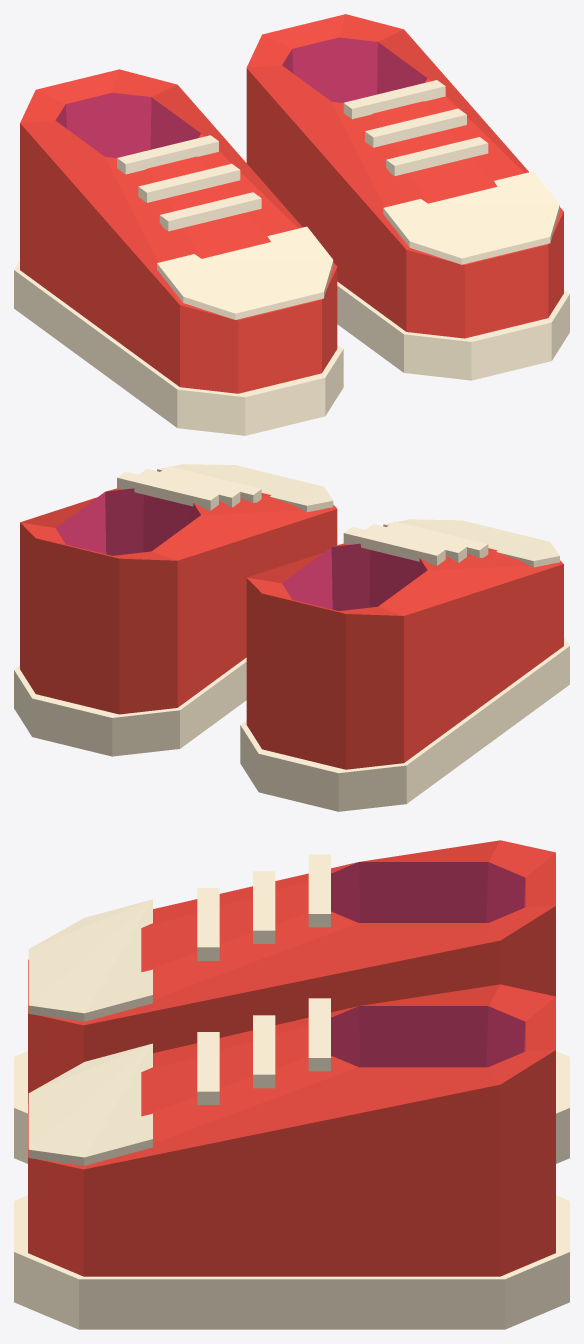
The model's file is 19-shoes.glb.
The picture shows the model from 3 angles, top to bottom: view 1: azimuth 30°, elevation 25°; view 2: azimuth 150°, elevation 25°; view 3: azimuth 270°, elevation 25°; orthographic projection. The views are drawn at different scales.
Visible parts, largest first — view 1: 19-shoes__OpenUpper_0, 19-shoes__OpenUpper_1, 19-shoes__Sole_0, 19-shoes__ToeCap_0, 19-shoes__ToeCap_1, 19-shoes__Sole_1, 19-shoes__Lace_0_1, 19-shoes__Lace_0_0, 19-shoes__Lace_1_0, 19-shoes__Lace_1_1, 19-shoes__Lace_1_2, 19-shoes__Lace_0_2; view 2: 19-shoes__OpenUpper_0, 19-shoes__OpenUpper_1, 19-shoes__Sole_0, 19-shoes__Sole_1, 19-shoes__ToeCap_1, 19-shoes__ToeCap_0, 19-shoes__Lace_0_2, 19-shoes__Lace_1_2, 19-shoes__Lace_0_1, 19-shoes__Lace_1_1, 19-shoes__Lace_1_0, 19-shoes__Lace_0_0; view 3: 19-shoes__OpenUpper_1, 19-shoes__OpenUpper_0, 19-shoes__Sole_1, 19-shoes__ToeCap_0, 19-shoes__ToeCap_1, 19-shoes__Sole_0, 19-shoes__Lace_0_2, 19-shoes__Lace_1_1, 19-shoes__Lace_1_2, 19-shoes__Lace_0_0, 19-shoes__Lace_0_1, 19-shoes__Lace_1_0.
Part boxes in pixels (x1,y1,x2,y2): 19-shoes__OpenUpper_0: (20,69,337,393); 19-shoes__OpenUpper_1: (246,14,563,338); 19-shoes__Sole_0: (14,261,343,435); 19-shoes__ToeCap_0: (157,226,333,319); 19-shoes__ToeCap_1: (383,171,559,264); 19-shoes__Sole_1: (337,281,569,380); 19-shoes__Lace_0_1: (138,163,240,202); 19-shoes__Lace_0_0: (159,192,261,231); 19-shoes__Lace_1_0: (386,137,488,175); 19-shoes__Lace_1_1: (365,108,466,147); 19-shoes__Lace_1_2: (343,80,445,119); 19-shoes__Lace_0_2: (117,135,218,174); 19-shoes__OpenUpper_0: (246,543,563,769); 19-shoes__OpenUpper_1: (20,488,337,714); 19-shoes__Sole_0: (240,637,569,811); 19-shoes__Sole_1: (14,657,246,756); 19-shoes__ToeCap_1: (157,464,333,512); 19-shoes__ToeCap_0: (383,519,559,567); 19-shoes__Lace_0_2: (343,527,445,565); 19-shoes__Lace_1_2: (117,471,218,510); 19-shoes__Lace_0_1: (365,524,466,562); 19-shoes__Lace_1_1: (139,469,240,507); 19-shoes__Lace_1_0: (160,466,261,502); 19-shoes__Lace_0_0: (387,521,488,557); 19-shoes__OpenUpper_1: (28,984,555,1276); 19-shoes__OpenUpper_0: (28,840,555,1103); 19-shoes__Sole_1: (14,1195,569,1329); 19-shoes__ToeCap_0: (28,899,152,1021); 19-shoes__ToeCap_1: (28,1043,152,1165); 19-shoes__Sole_0: (14,1051,569,1163); 19-shoes__Lace_0_2: (308,854,330,927); 19-shoes__Lace_1_1: (253,1015,275,1088); 19-shoes__Lace_1_2: (308,998,330,1071); 19-shoes__Lace_0_0: (197,888,219,960); 19-shoes__Lace_0_1: (253,871,275,943); 19-shoes__Lace_1_0: (197,1032,219,1104).
Size of the model in its own units: 0.319 by 0.151 by 0.3.
